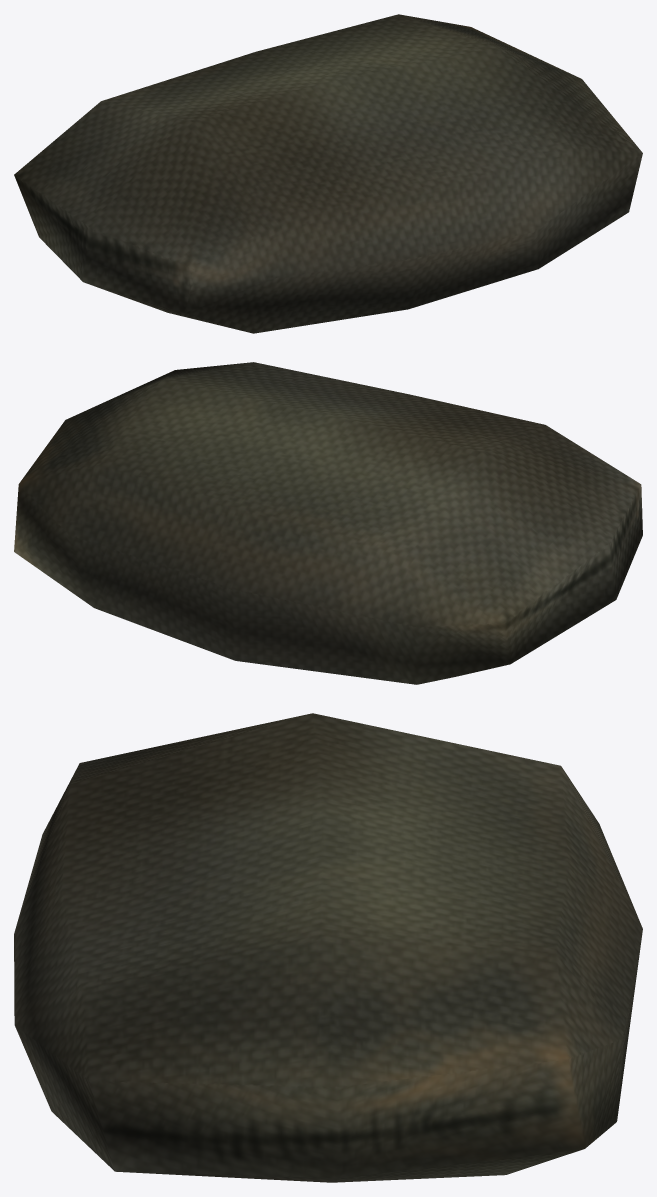
File: SM_Sand_bag_2_d.FBX
The picture shows the model from 3 angles, top to bottom: view 1: azimuth 30°, elevation 25°; view 2: azimuth 150°, elevation 25°; view 3: azimuth 270°, elevation 25°; orthographic projection. The views are drawn at different scales.
Visible parts, largest first — view 1: Sand_bag_2_d; view 2: Sand_bag_2_d; view 3: Sand_bag_2_d.
Part boxes in pixels (<box>): Sand_bag_2_d: <box>14,14,642,333</box>; Sand_bag_2_d: <box>14,362,642,684</box>; Sand_bag_2_d: <box>14,713,642,1182</box>.
Size of the model in its own units: 613 by 438 by 211.
